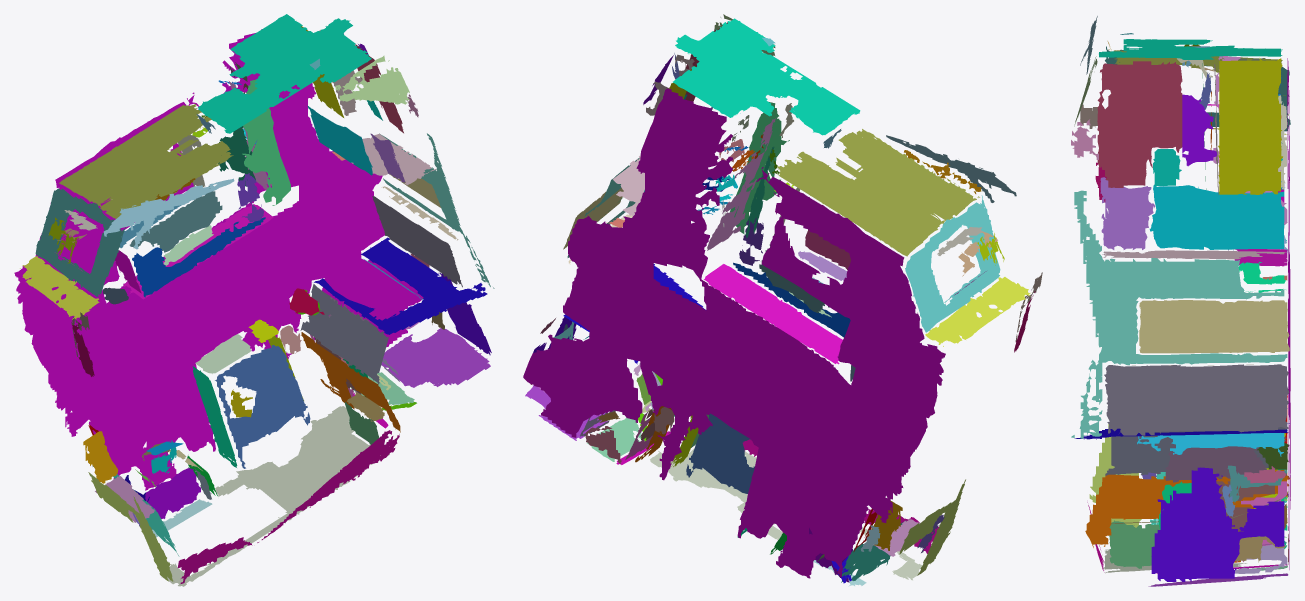
The model's file is airplanes_scene0000.glb.
3 views of the same model, side by side, from view 1: azimuth 30°, elevation 25°; view 2: azimuth 150°, elevation 25°; view 3: azimuth 270°, elevation 25° (orthographic). The views are drawn at different scales.
Size of the model in its own units: 8.16 by 8.79 by 2.85.
